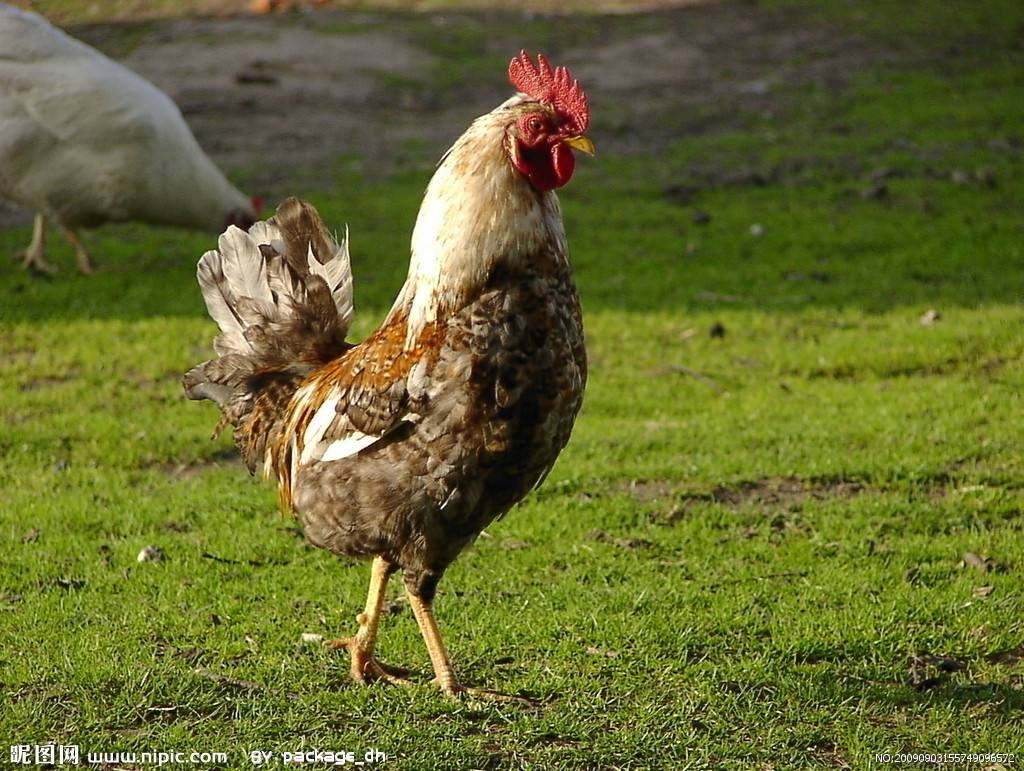chicken: (196, 49, 619, 714), (2, 3, 275, 279)
